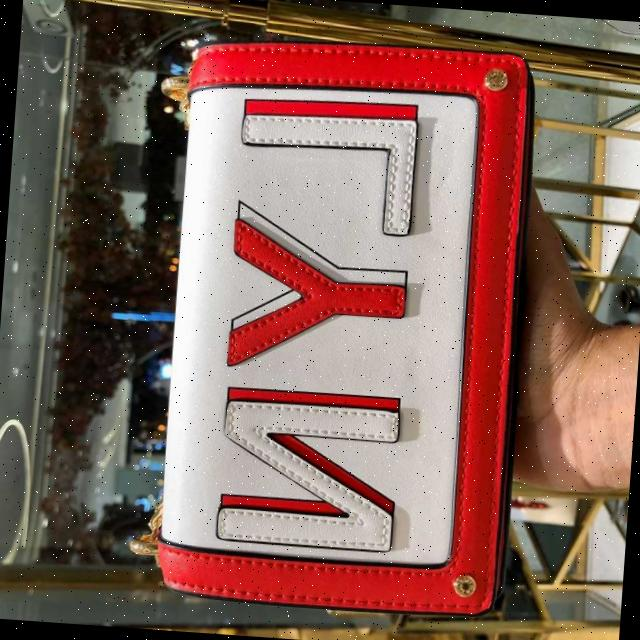Handbag: (153, 26, 544, 622)
